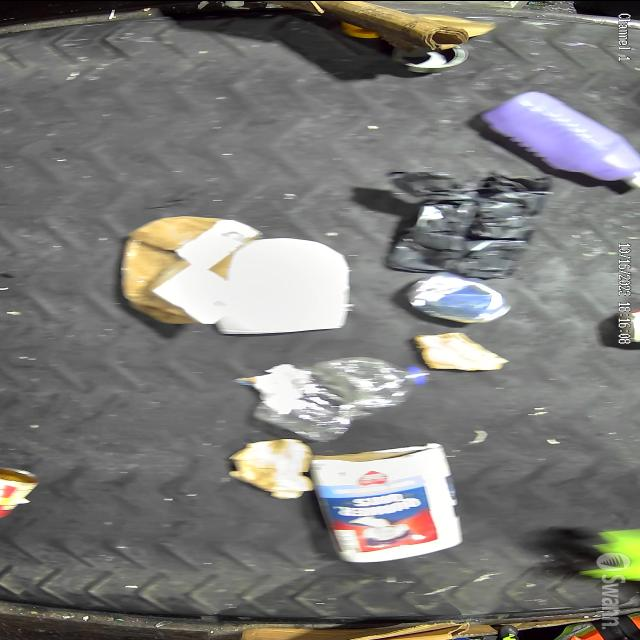can: (404, 272, 514, 324), (0, 465, 41, 518), (396, 46, 470, 72)
milk_jug: (218, 238, 350, 333)
plastic_bottle: (252, 356, 432, 442)
